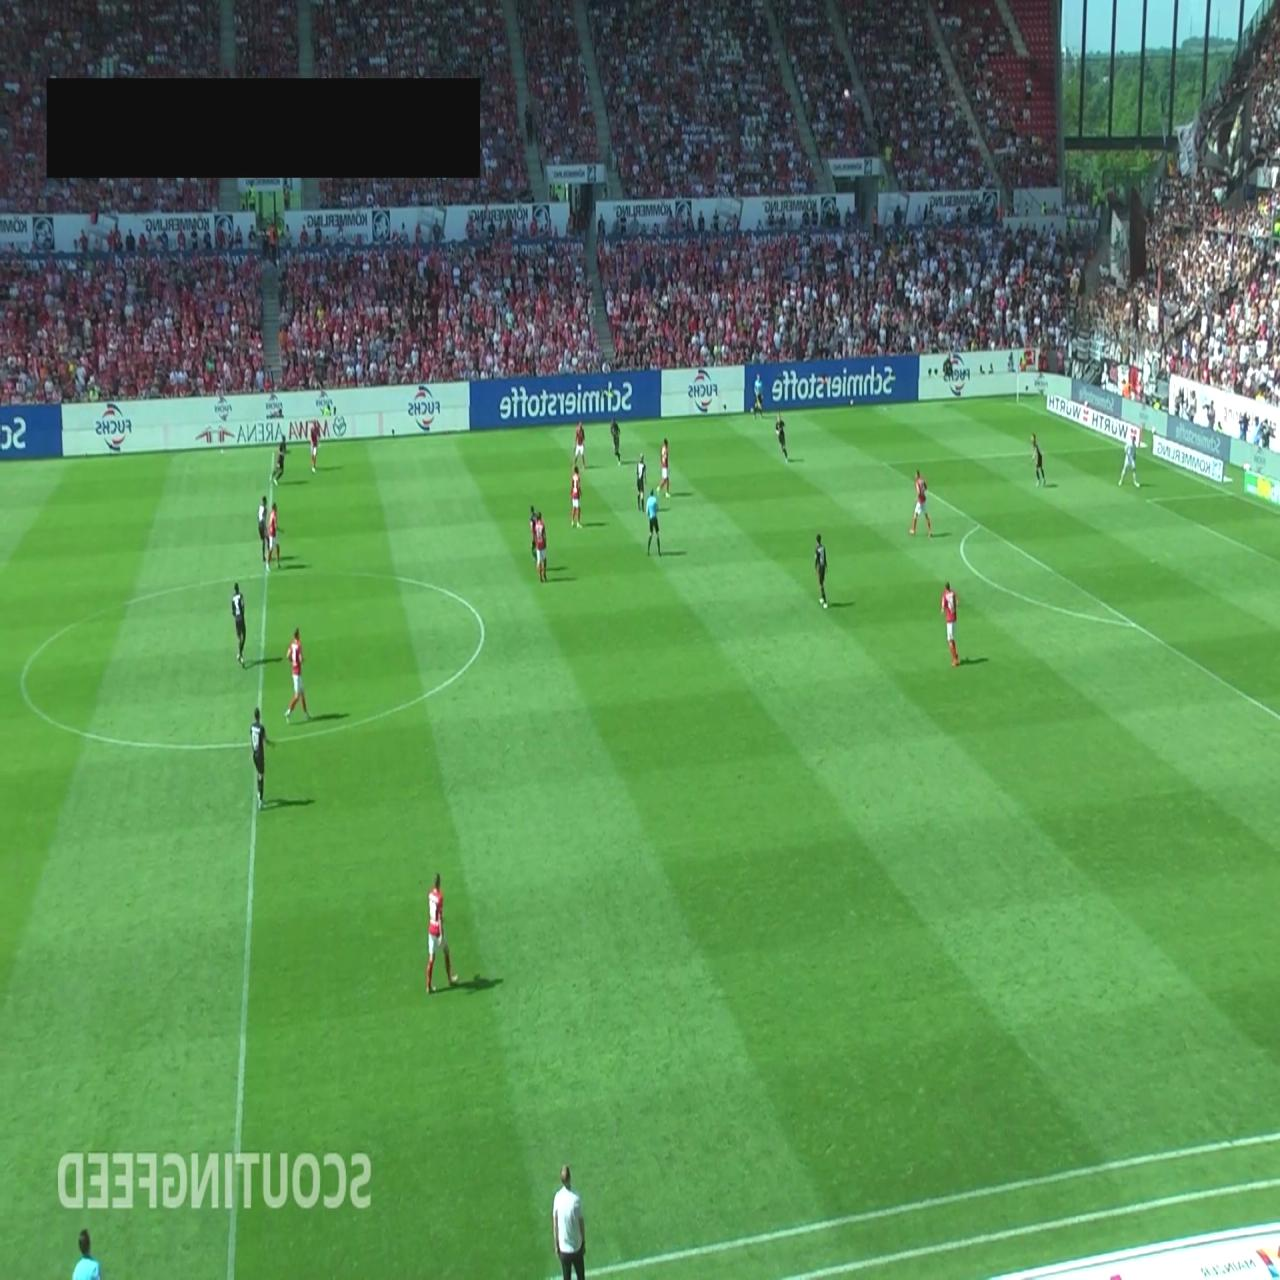ball: (844, 88, 849, 100)
goalkeeper: (1118, 430, 1142, 487)
player: (426, 871, 459, 996), (250, 705, 276, 810), (285, 627, 310, 722), (909, 469, 933, 538), (941, 578, 959, 666), (231, 581, 247, 665), (268, 500, 284, 570), (533, 510, 548, 583), (814, 532, 828, 608), (270, 437, 289, 486), (258, 496, 270, 564), (1031, 433, 1046, 487), (657, 437, 670, 497), (774, 412, 789, 461), (572, 420, 586, 470), (571, 468, 582, 529), (309, 418, 321, 472), (636, 453, 646, 512), (529, 504, 538, 557), (610, 418, 620, 461)
referee: (72, 1228, 100, 1279), (646, 486, 661, 557), (752, 371, 764, 418)
